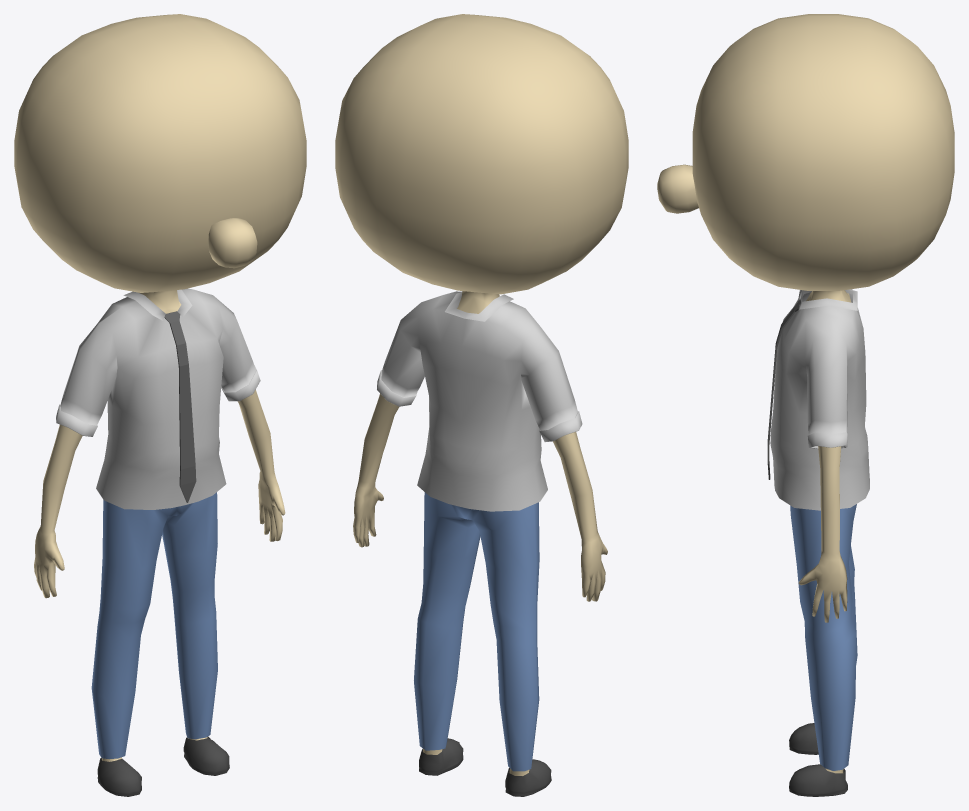
The model's file is teacher.fbx.
3 views of the same model, side by side, from view 1: azimuth 30°, elevation 25°; view 2: azimuth 150°, elevation 25°; view 3: azimuth 270°, elevation 25° (orthographic).
Parts seen in each view (by area): view 1: sapatos.001, Cube; view 2: sapatos.001; view 3: sapatos.001, Cube.
Part boxes in pixels (x1,y1,x2,y2): sapatos.001: (14,14,306,796); Cube: (164,311,196,502); sapatos.001: (335,14,628,796); sapatos.001: (657,14,954,796); Cube: (767,298,802,479).
Size of the model in its own units: 285 by 810 by 297.
